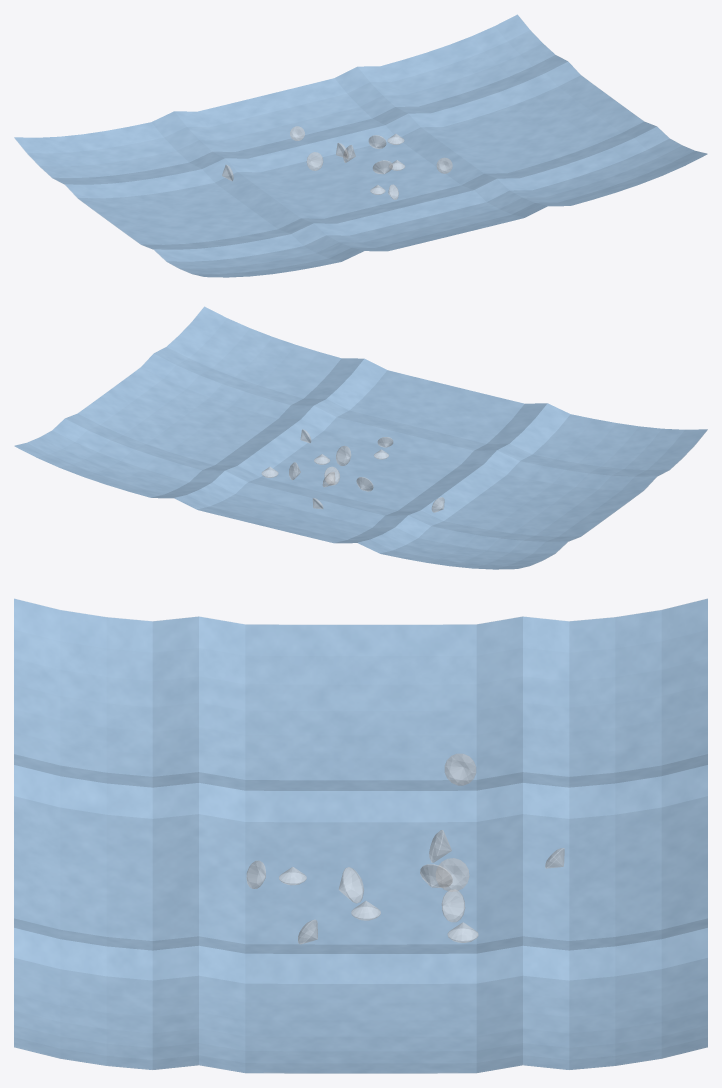
Rendered from GemParcel.obj.
3 renders of one model, top to bottom at view 1: azimuth 30°, elevation 25°; view 2: azimuth 150°, elevation 25°; view 3: azimuth 270°, elevation 25°, orthographic. The views are drawn at different scales.
Parts seen in each view (by area): view 1: GemPaper, Diamond; view 2: GemPaper, Diamond; view 3: GemPaper, Diamond.
Boxes of the visible parts, <box> form: GemPaper: <box>14,14,707,277</box>; Diamond: <box>222,126,452,199</box>; GemPaper: <box>14,306,707,569</box>; Diamond: <box>261,429,444,512</box>; GemPaper: <box>14,598,707,1073</box>; Diamond: <box>246,753,564,944</box>.
Size of the model in its own units: 0.11 by 0.0071 by 0.072.
Materials: 2 (1 with a texture image).
